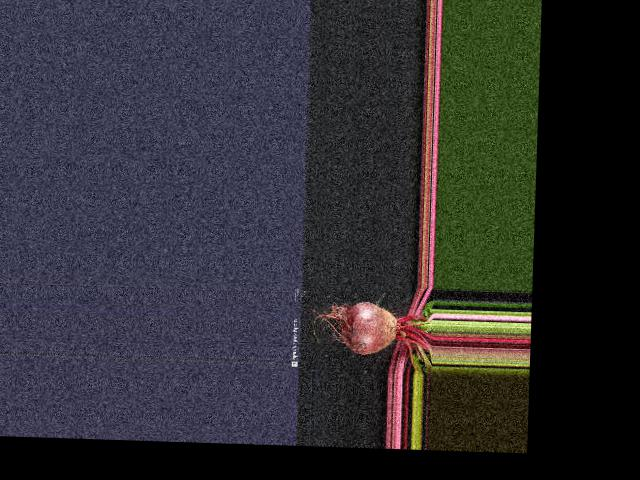beet: (306, 299, 433, 375)
